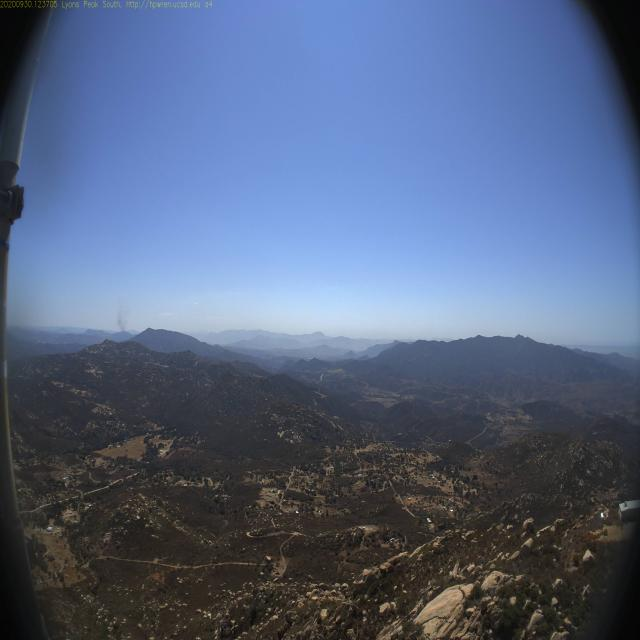smoke: (114, 296, 134, 342)
